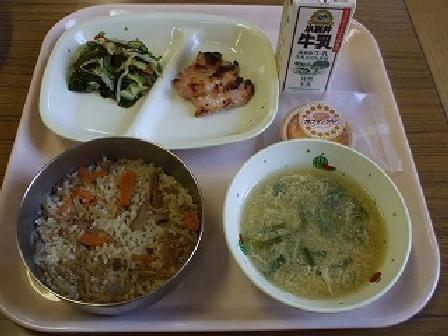Cup desserts: (269, 93, 389, 156)
Meat: (169, 46, 263, 117)
Milk: (271, 0, 355, 91)
Mixed rice: (11, 143, 198, 303)
Salad: (66, 28, 158, 107)
Soups: (235, 149, 398, 297)
